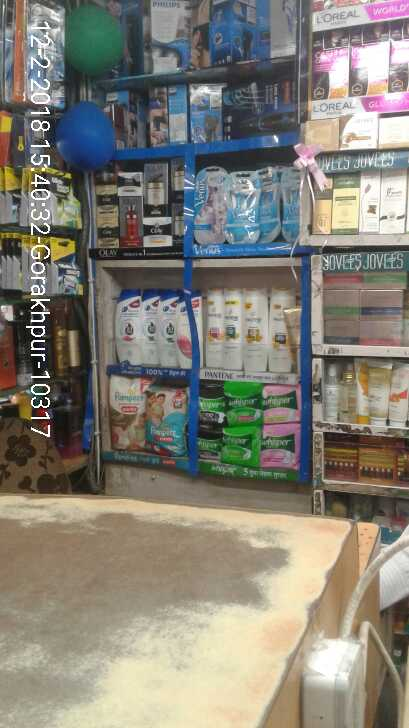gillete: (32, 8, 64, 105), (1, 235, 41, 291), (48, 239, 83, 299), (1, 168, 34, 223), (51, 172, 84, 225)
venus: (191, 170, 224, 247), (228, 174, 259, 247), (280, 167, 300, 241), (260, 171, 279, 246)
